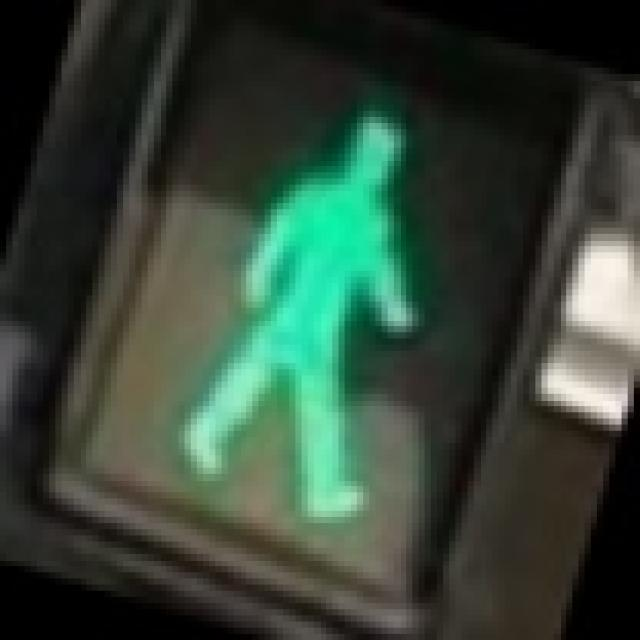geen-crossing: (123, 61, 499, 548)
